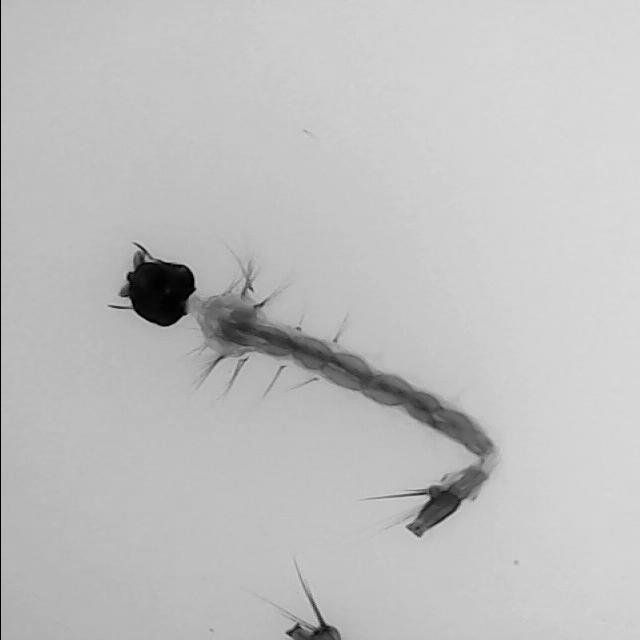larvas: (130, 246, 497, 532)
